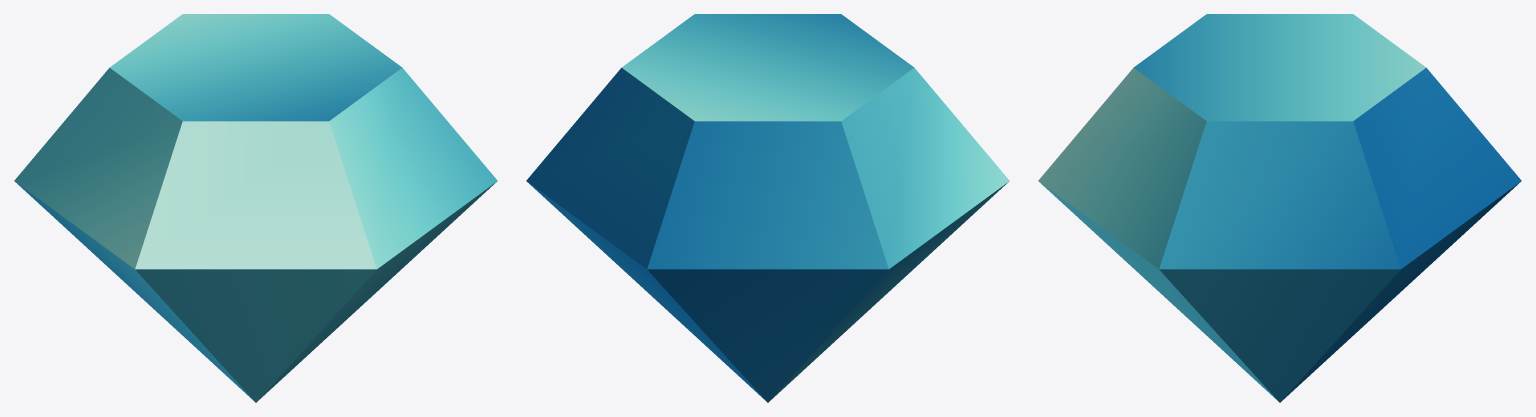
File: Diamond_02.glb
The picture shows the model from 3 angles, left to right: view 1: azimuth 30°, elevation 25°; view 2: azimuth 150°, elevation 25°; view 3: azimuth 270°, elevation 25°; orthographic projection.
Parts seen in each view (by area): view 1: Diamond_02; view 2: Diamond_02; view 3: Diamond_02.
Part boxes in pixels (x1=…): Diamond_02: x1=14, y1=14, x2=497, y2=402; Diamond_02: x1=526, y1=14, x2=1009, y2=402; Diamond_02: x1=1038, y1=14, x2=1521, y2=402.
Bounding box in the file's own units: 0.3749 × 0.3312 × 0.4329.
1 material, 1 textured.
